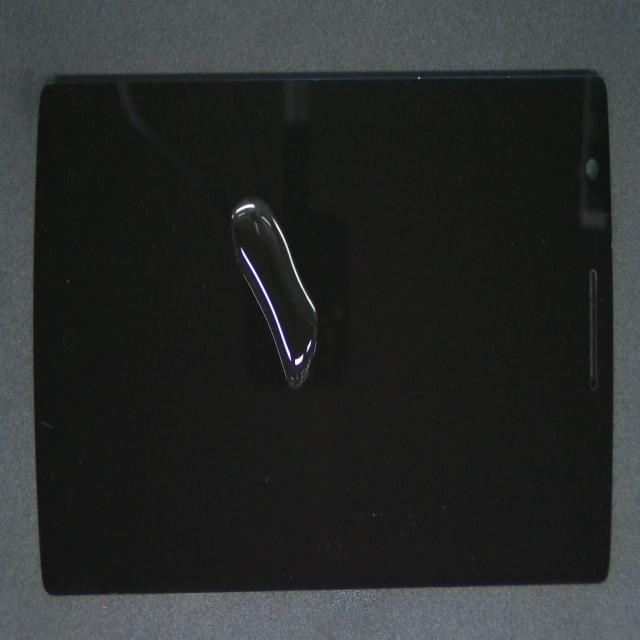oil: (189, 190, 484, 446)
